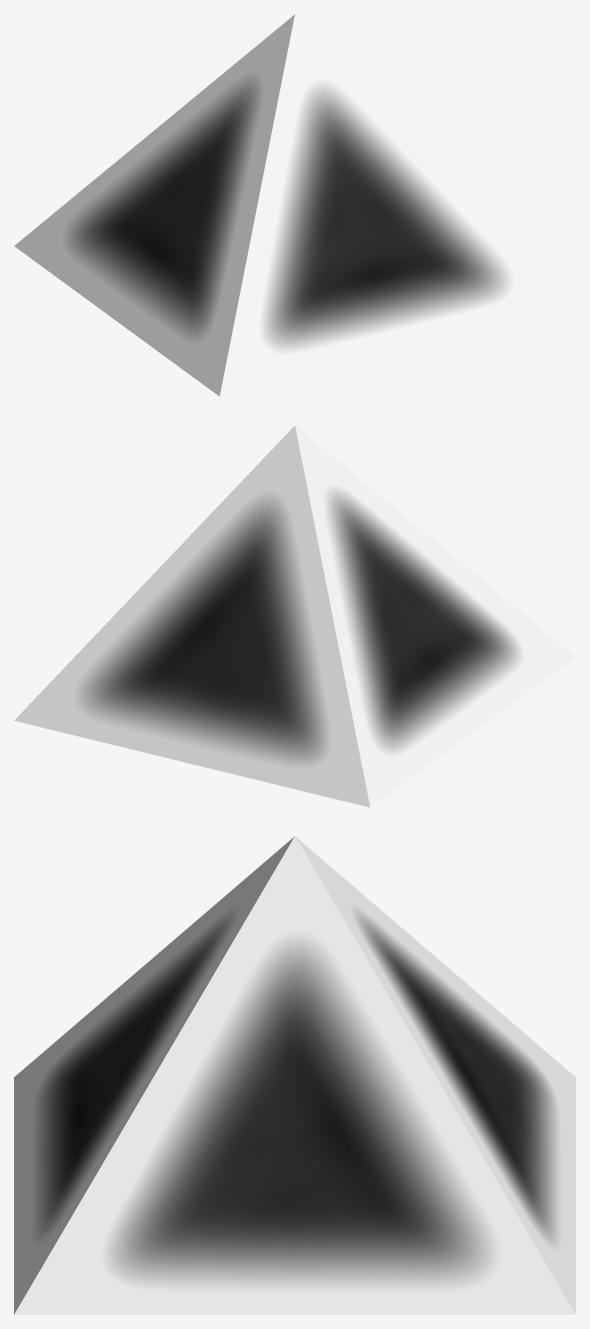
Rendered from spike_001.glb.
The picture shows the model from 3 angles, top to bottom: view 1: azimuth 30°, elevation 25°; view 2: azimuth 150°, elevation 25°; view 3: azimuth 270°, elevation 25°; orthographic projection. The views are drawn at different scales.
Parts seen in each view (by area): view 1: Cone; view 2: Cone; view 3: Cone.
Boxes of the visible parts, x1,y1,x2,y2 form: Cone: (14,14,575,396); Cone: (14,425,575,807); Cone: (14,836,575,1314).
Size of the model in its own units: 2 by 1.41 by 2.
Materials: 1 (1 with a texture image).
